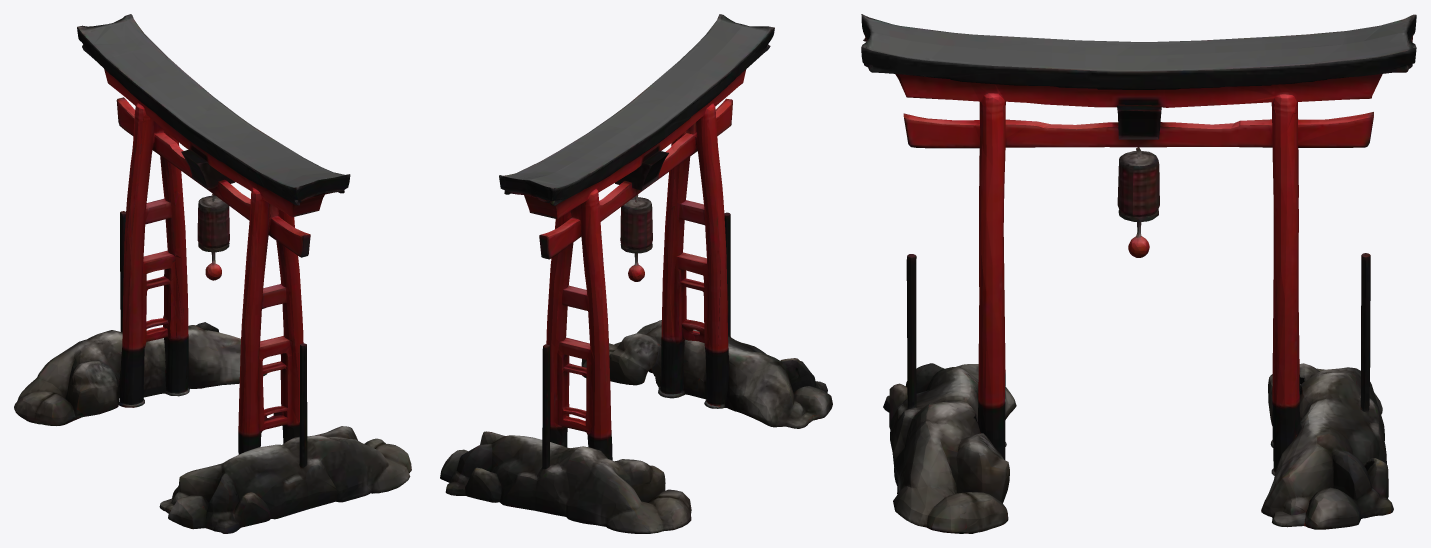
The model's file is prop_amatsu_torii.glb.
The picture shows the model from 3 angles, left to right: view 1: azimuth 30°, elevation 25°; view 2: azimuth 150°, elevation 25°; view 3: azimuth 270°, elevation 25°; orthographic projection. The views are drawn at different scales.
Parts seen in each view (by area): view 1: geometry_0; view 2: geometry_0; view 3: geometry_0.
Boxes of the visible parts, x1,y1,x2,y2 form: geometry_0: (14, 14, 411, 533); geometry_0: (440, 14, 832, 533); geometry_0: (861, 14, 1416, 533).
Size of the model in its own units: 0.6446 by 0.8562 by 1.
Materials: 1 (1 with a texture image).
